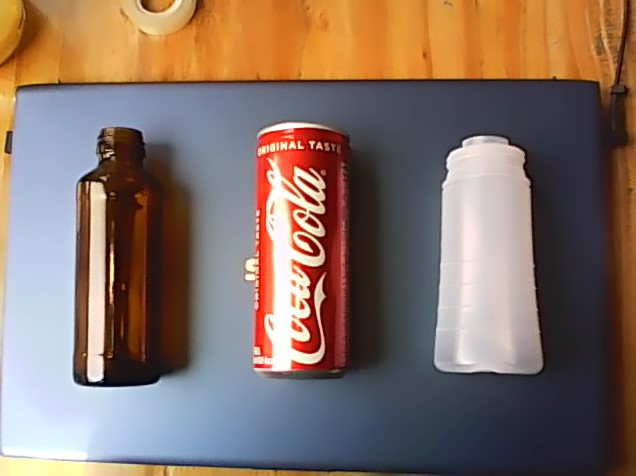Can: (244, 112, 357, 386)
Glass: (68, 121, 168, 391)
Plastic: (426, 131, 548, 380)
